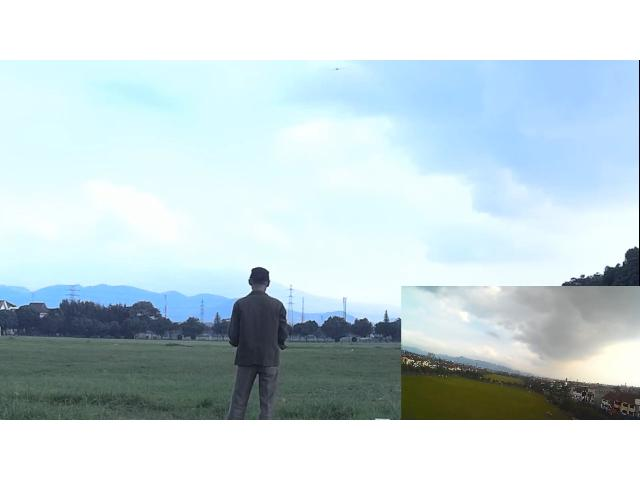Anti-Drone: (319, 64, 353, 78)
